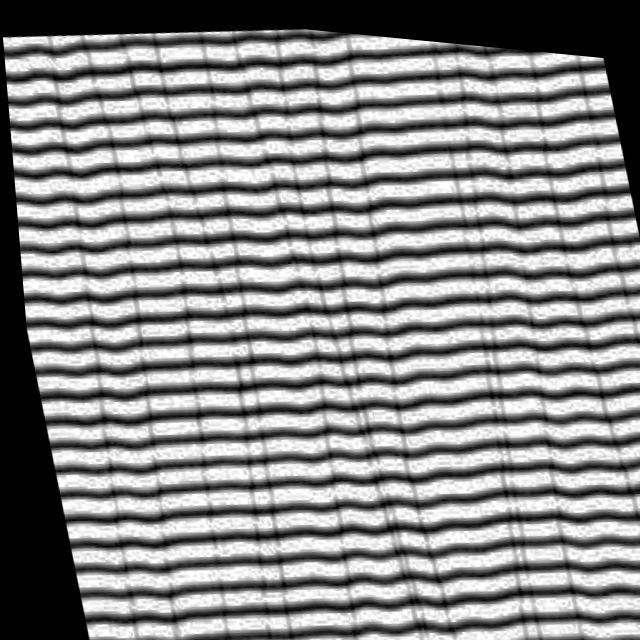Stitch: (137, 143, 335, 640)
